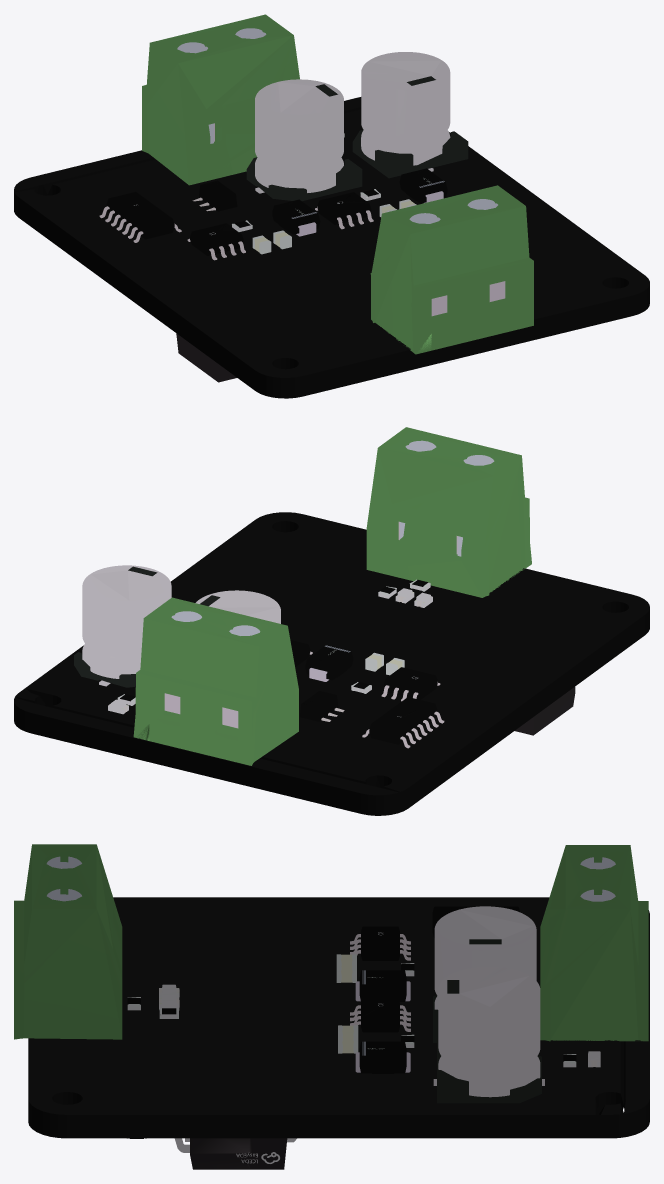
Rendered from chip2.gltf.
3 views of the same model, one above another, from view 1: azimuth 30°, elevation 25°; view 2: azimuth 150°, elevation 25°; view 3: azimuth 270°, elevation 25° (orthographic). The views are drawn at different scales.
Parts seen in each view (by area): view 1: OBJ_PCB_smart_pwm_drive_v2.3_ logo.001; view 2: OBJ_PCB_smart_pwm_drive_v2.3_ logo.001; view 3: OBJ_PCB_smart_pwm_drive_v2.3_ logo.001.
Boxes of the visible parts, x1=… form: OBJ_PCB_smart_pwm_drive_v2.3_ logo.001: x1=14, y1=14, x2=649, y2=398; OBJ_PCB_smart_pwm_drive_v2.3_ logo.001: x1=14, y1=427, x2=649, y2=815; OBJ_PCB_smart_pwm_drive_v2.3_ logo.001: x1=14, y1=844, x2=649, y2=1169.
Bounding box in the file's own units: 199 × 82.83 × 245.
